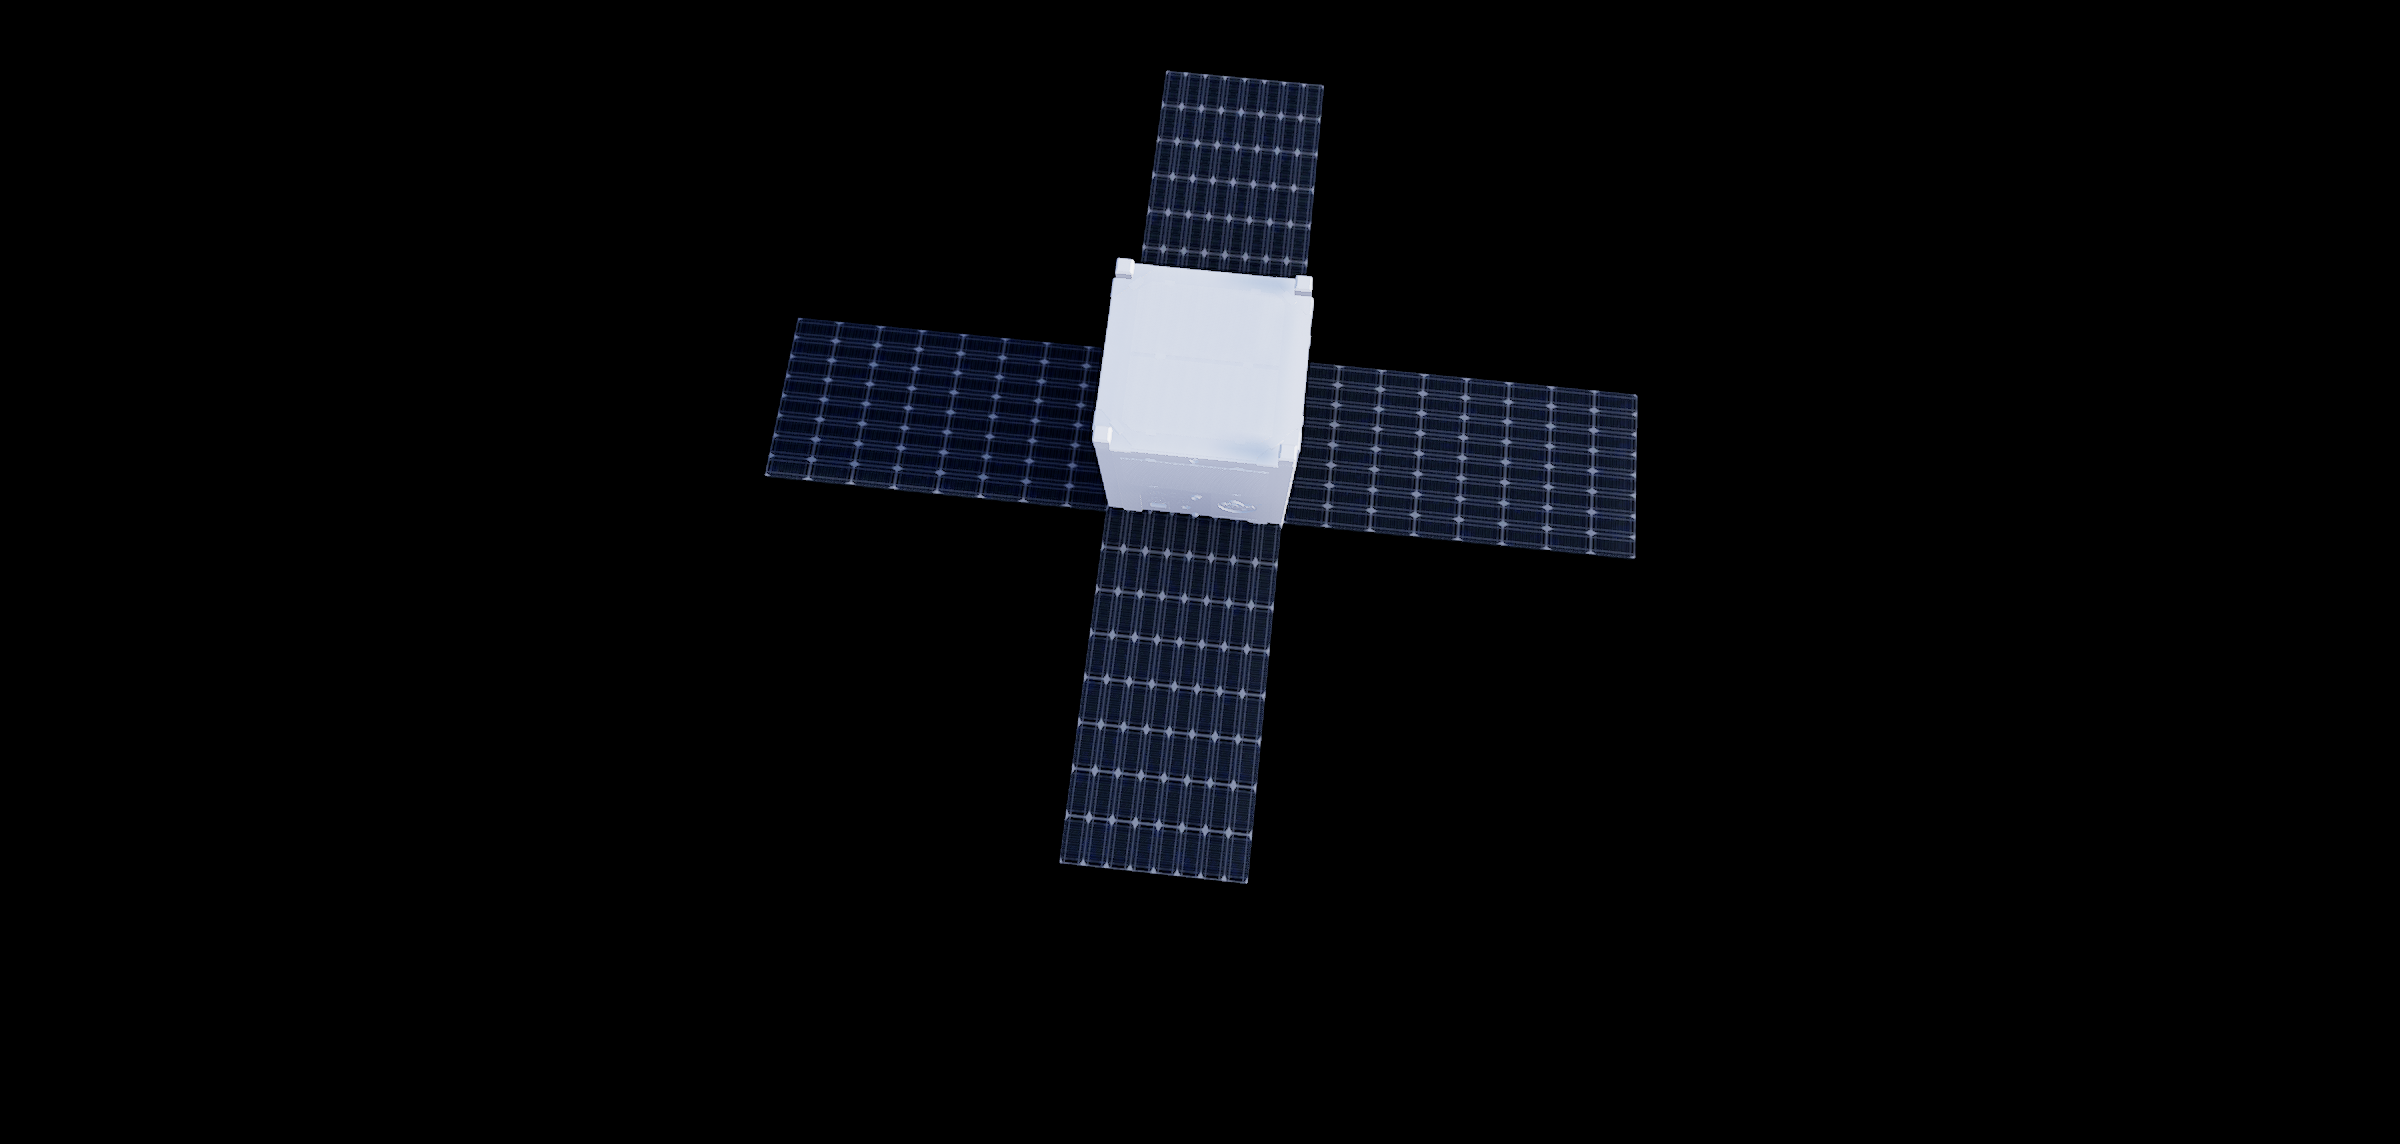satellite: (756, 64, 1685, 927)
